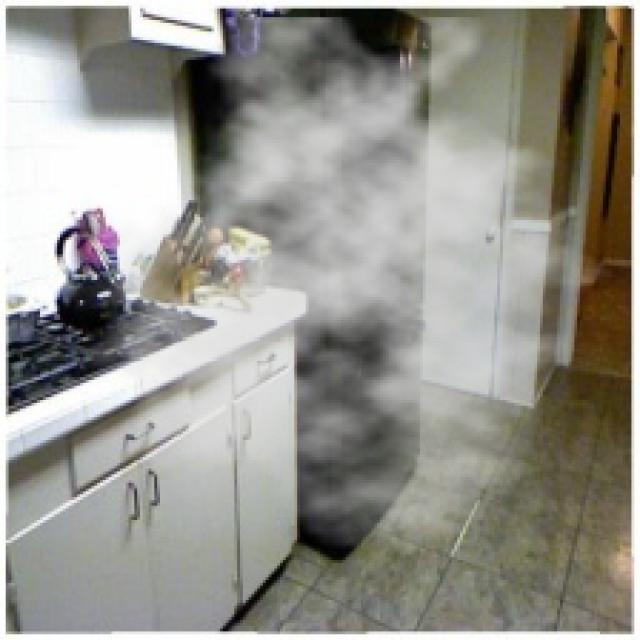smoke: (83, 17, 634, 552)
